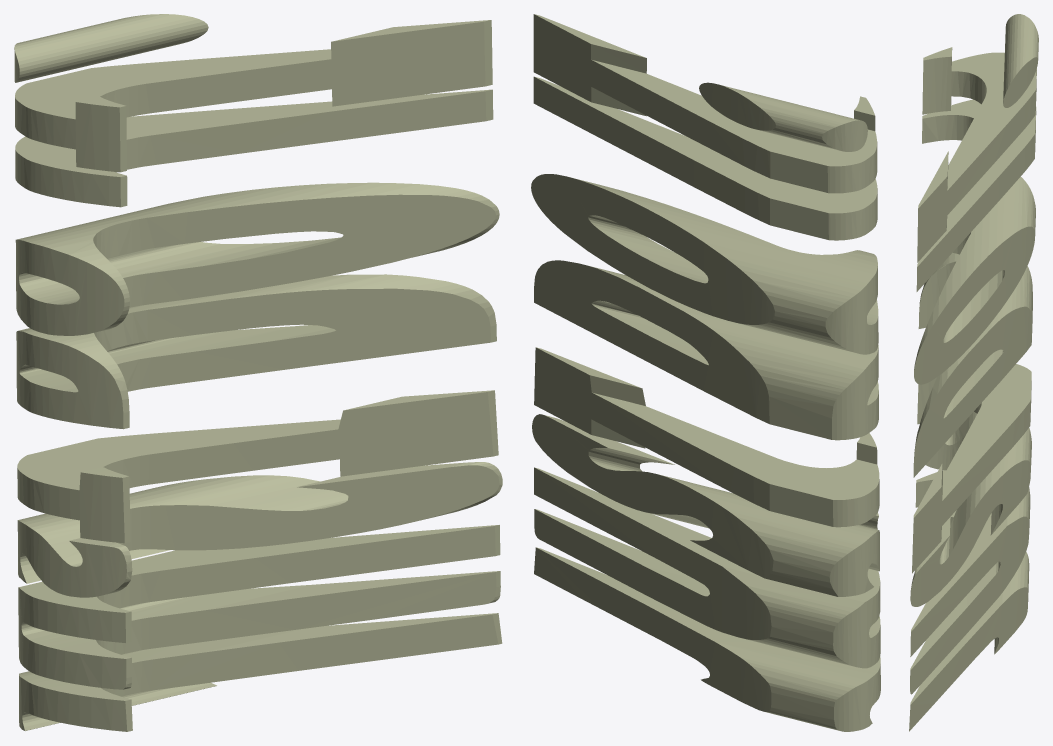
File: tinker.obj
3 renders of one model, left to right at view 1: azimuth 30°, elevation 25°; view 2: azimuth 150°, elevation 25°; view 3: azimuth 270°, elevation 25°, orthographic. The views are drawn at different scales.
Visible parts, largest first — view 1: obj_0; view 2: obj_0; view 3: obj_0.
Part boxes in pixels (left/top/right/bottom): obj_0: left=14, top=14, right=502, bottom=731; obj_0: left=531, top=14, right=880, bottom=731; obj_0: left=909, top=14, right=1038, bottom=731.
Bounding box in the file's own units: 99.19 × 150 × 31.23.
